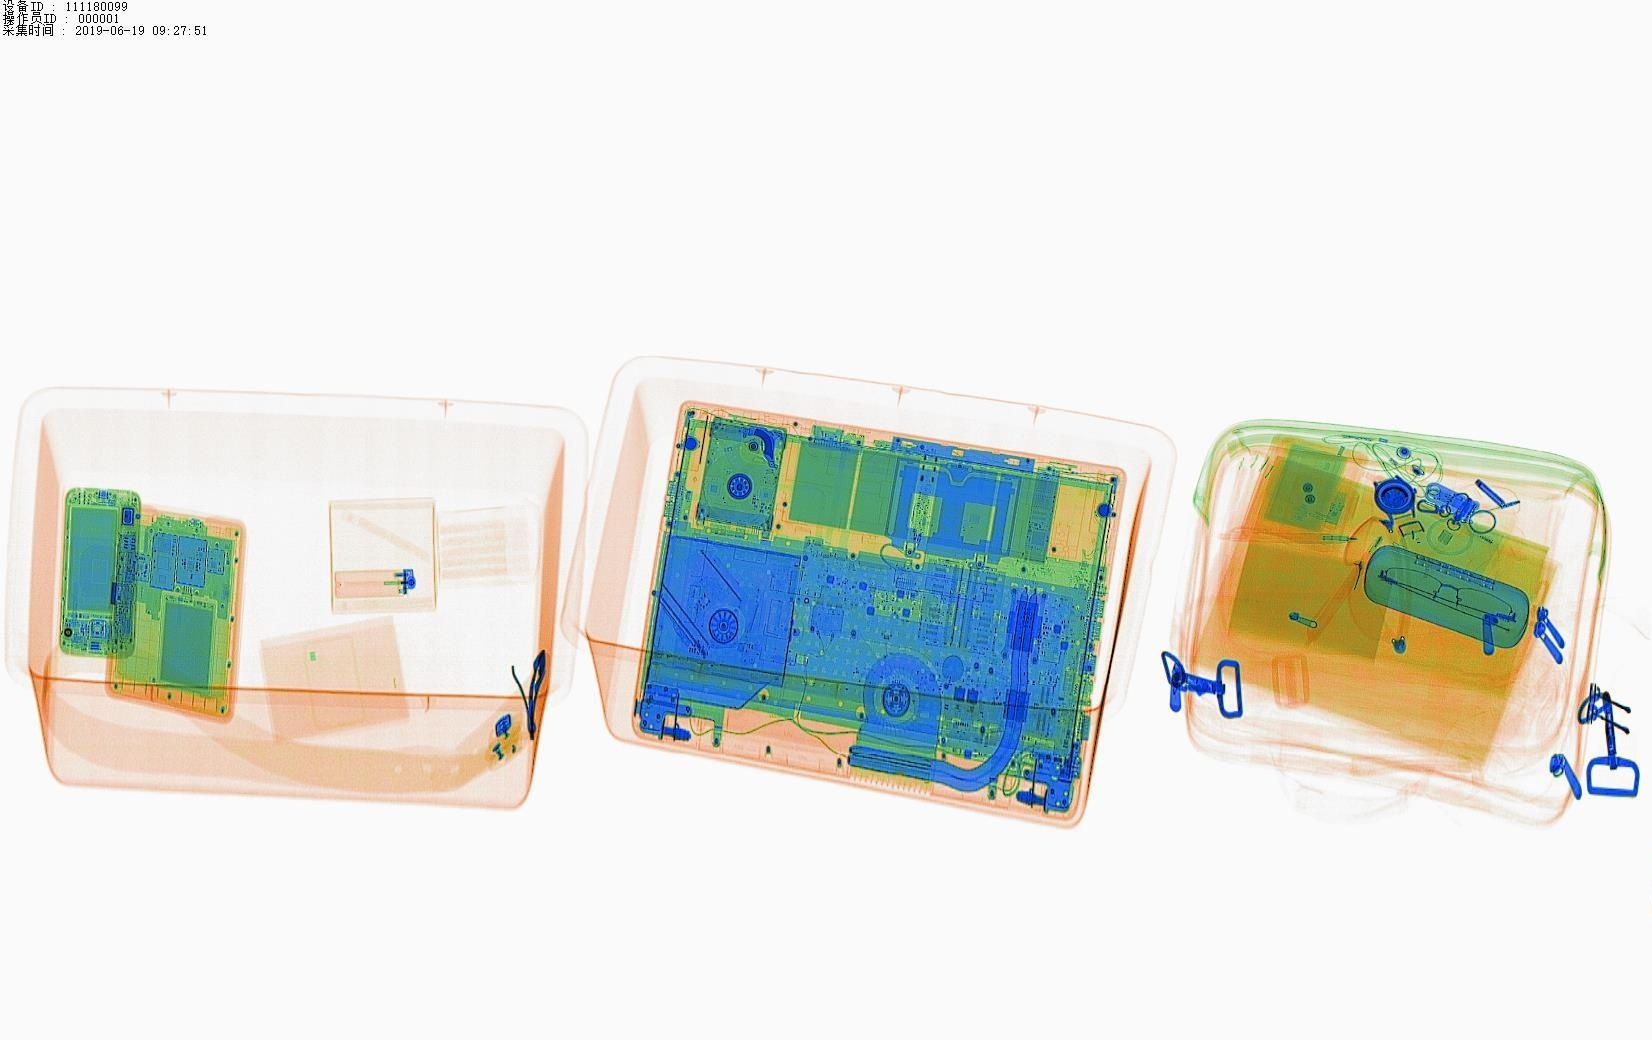NonmetallicFire: (311, 548, 438, 616)
